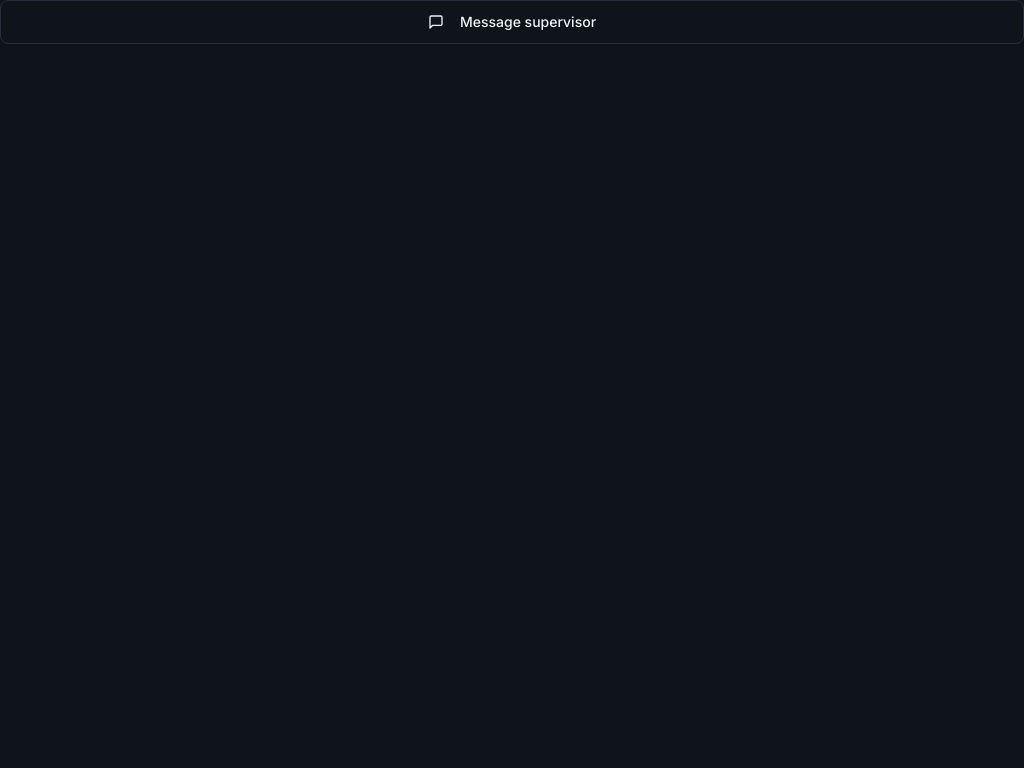
Test: MessageSupervisorDialog › dates every message and says when yours was seen
Step 1. Click the button "Message supervisor" → coordinates (512, 22), box [0, 0, 1023, 44]
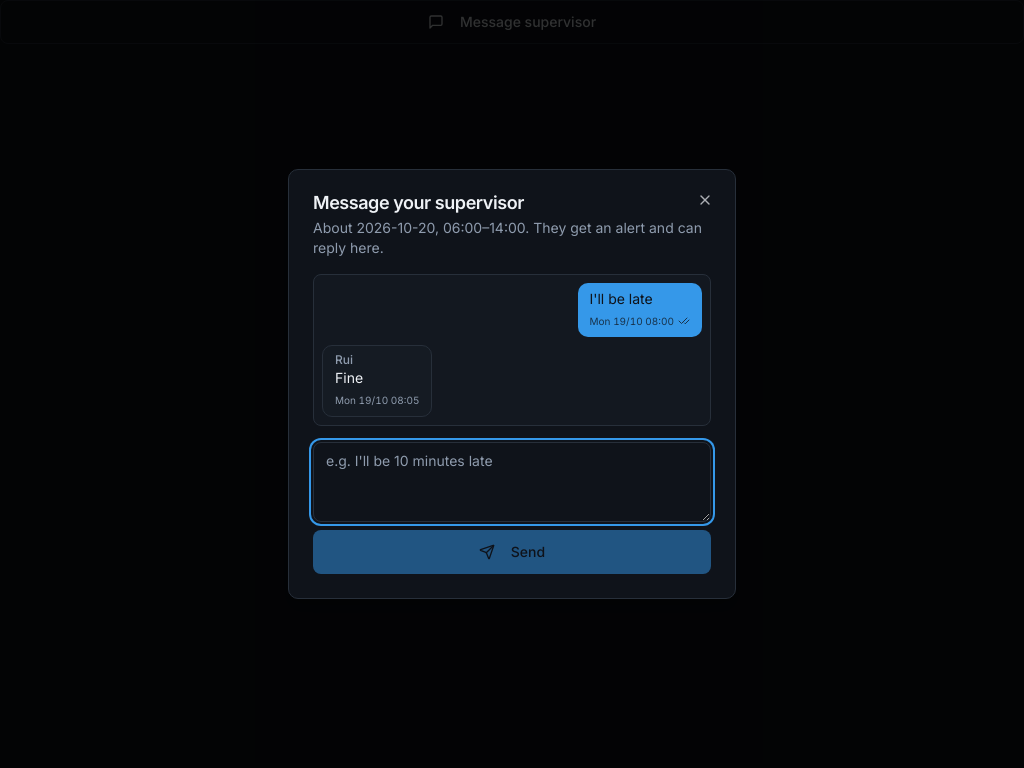
Expected: the icon named "Seen" is shown, [678, 315, 690, 327]
